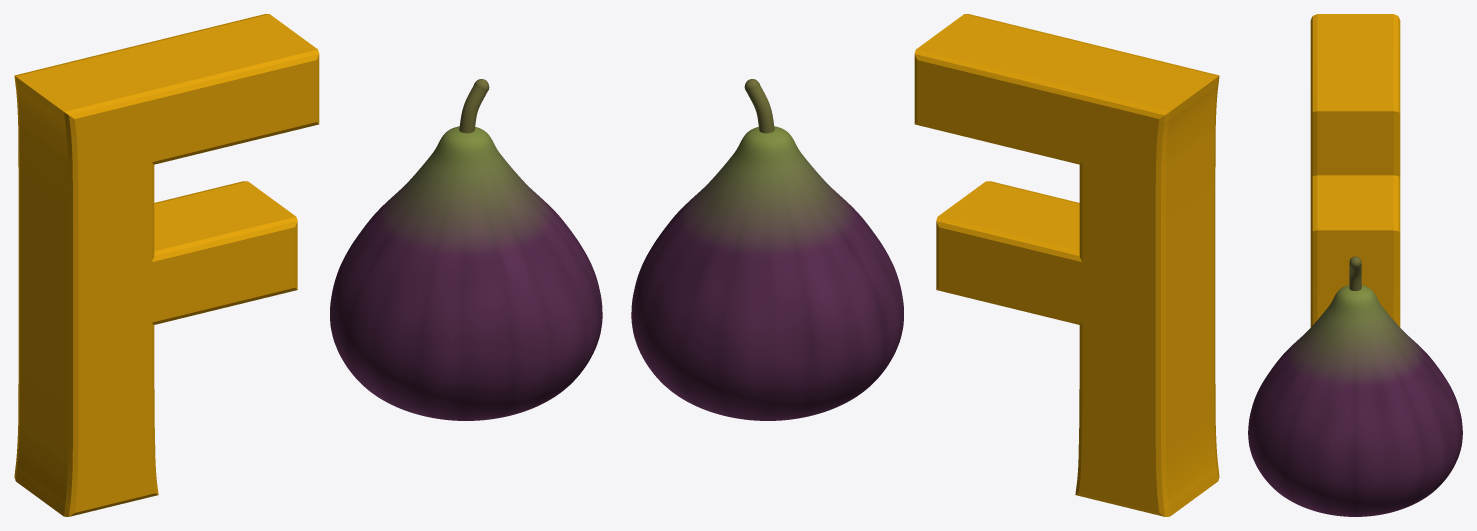
File: fig-ar.glb
3 renders of one model, left to right at view 1: azimuth 30°, elevation 25°; view 2: azimuth 150°, elevation 25°; view 3: azimuth 270°, elevation 25°, orthographic. The views are drawn at different scales.
Parts seen in each view (by area): view 1: Letter F, Fig; view 2: Letter F, Fig; view 3: Fig, Letter F.
Boxes of the visible parts, left/top/right/bottom form: Letter F: left=14, top=14, right=319, bottom=516; Fig: left=330, top=79, right=602, bottom=420; Letter F: left=914, top=14, right=1219, bottom=516; Fig: left=631, top=79, right=903, bottom=420; Fig: left=1248, top=256, right=1462, bottom=516; Letter F: left=1310, top=14, right=1400, bottom=327.
Bounding box in the file's own units: 0.3557 × 0.2531 × 0.1543.
